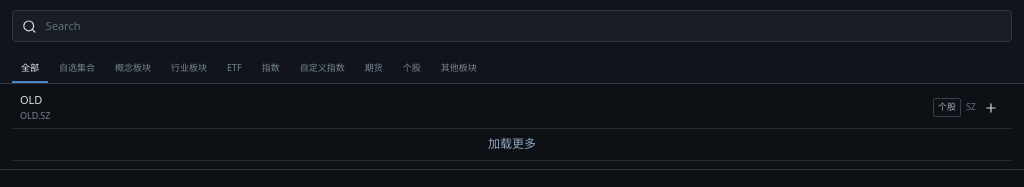
InstrumentBrowser › ignores a stale load-more response after the query changes
Check: the text "OLD" is shown, box [20,93,42,108]
Click the button "加载更多" at (512, 145), box [12,129,1012,161]
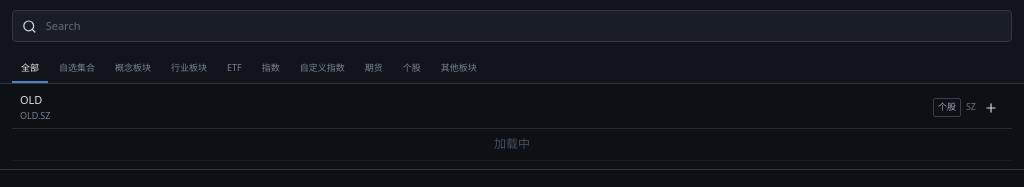
Type "new" into the field named "Search instruments" at (523, 26), box [44,18,1002,34]
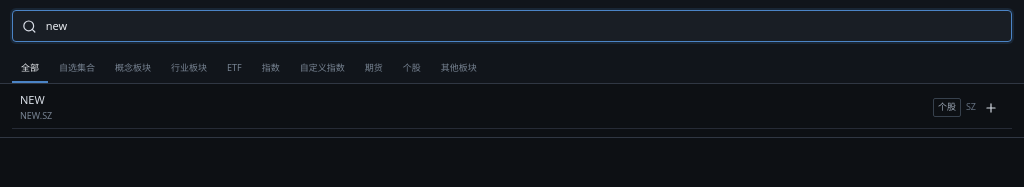
Check: the text "NEW" is shown, box [20,93,45,108]
